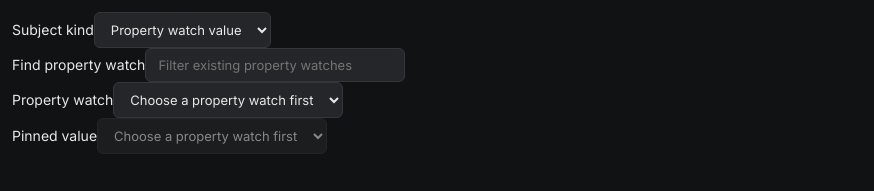
Test case: custom-rule subject picker › offers only pinned property-watch values, renders hostile text inert and links to pin first
The image size is (874, 191).
Select "VPN usernames" in the dropdown labelled "Property watch": (228, 100) [113,82,343,118]
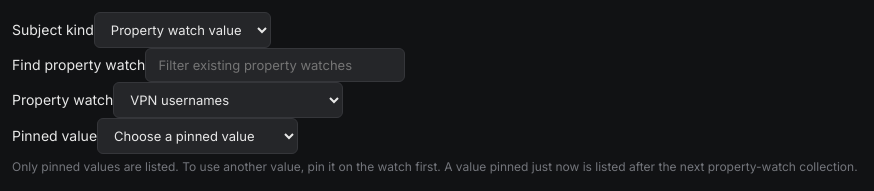
Check: the dropdown labelled "Pinned value" is enabled, box [97,118,298,154]
